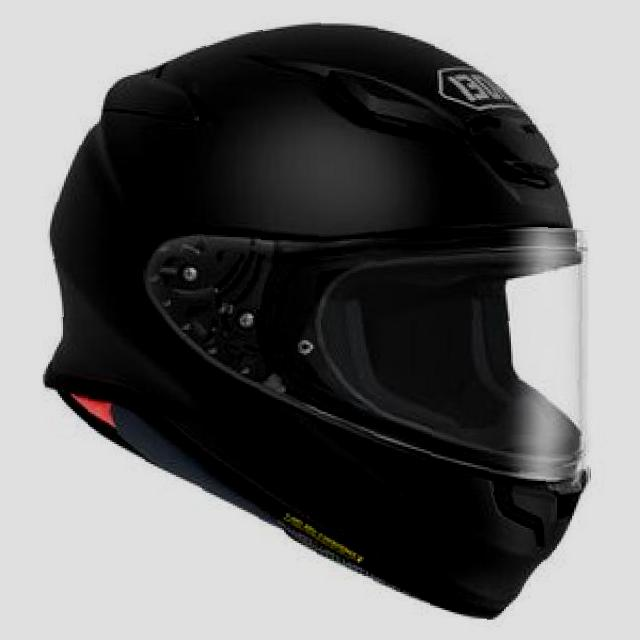helmet: (42, 19, 596, 619)
